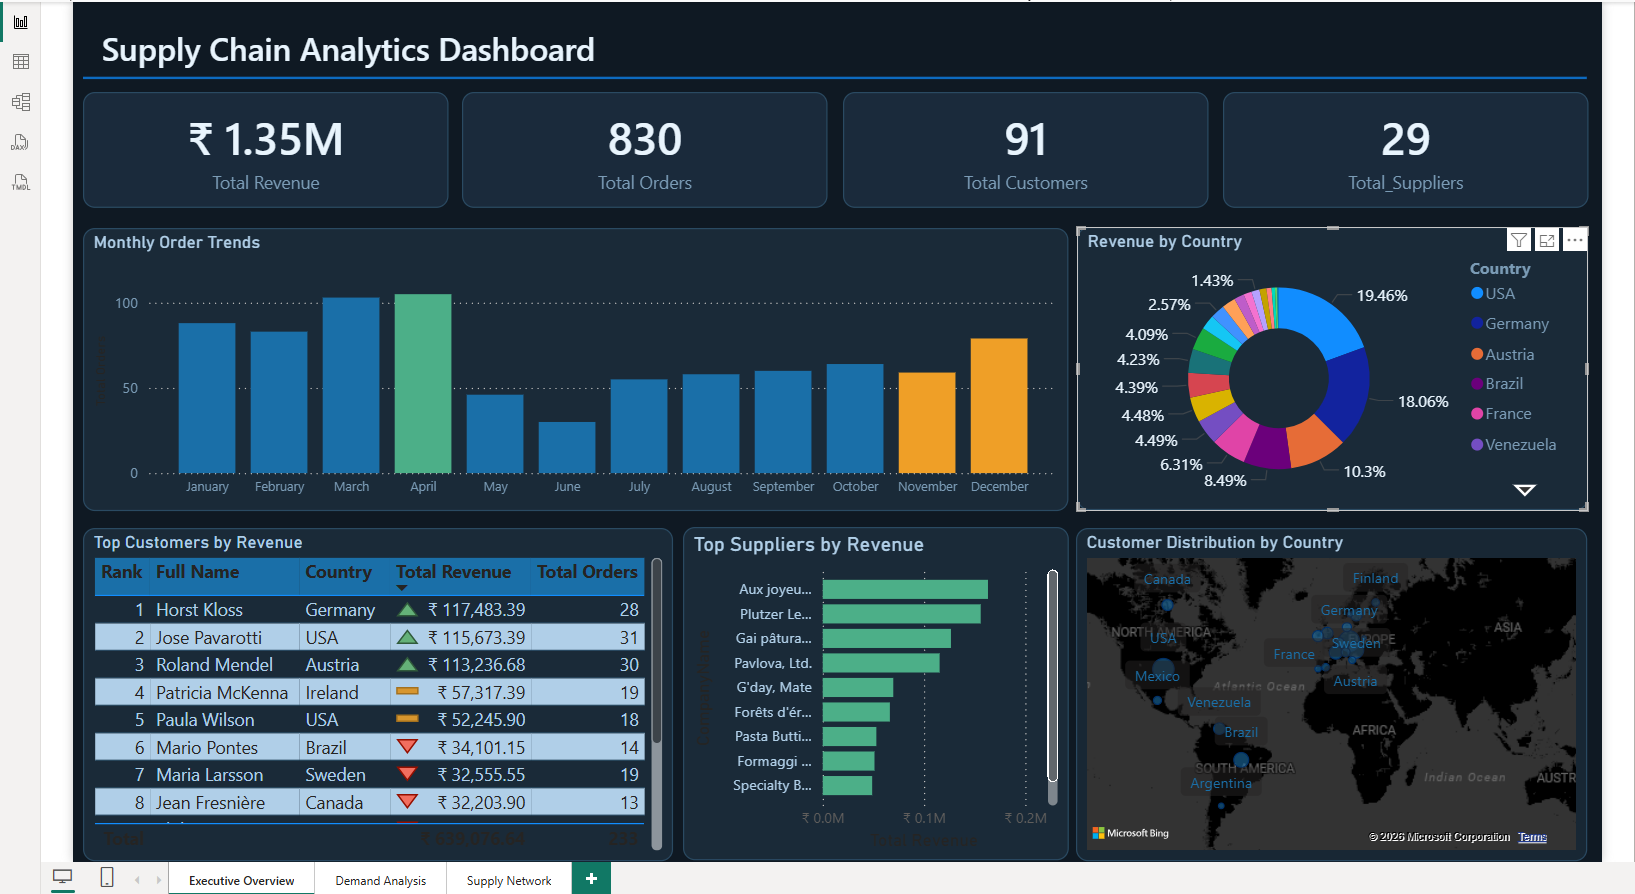

What the dashboard file says about the page in this screenshot:
{"tool":"powerbi","page":{"name":"Executive Overview","canvas":[1280,720],"ordinal":0},"visuals":[{"type":"card","fields":{"Values":["order_item.Total Revenue"]},"box":[8.6,75,306.2,96.6],"z":0},{"type":"card","fields":{"Values":["order_item.Total Orders"]},"box":[326,75,306.2,96.6],"z":1000},{"type":"card","fields":{"Values":["customer.Total Customers"]},"box":[644.3,75,306.2,96.6],"z":2000},{"type":"card","fields":{"Values":["supplier.Total Suppliers"]},"box":[962.6,75,306.2,96.6],"z":3000},{"type":"clusteredColumnChart","title":"Monthly Order Trends","fields":{"Y":["order_item.Total Orders"],"Category":["order.OrderDate.Variation.Date Hierarchy.Month"]},"box":[8.6,188.9,824.6,237.2],"z":4000},{"type":"donutChart","title":"Revenue by Country","fields":{"Y":["order_item.Total Revenue"],"Category":["customer.Country"]},"box":[840.4,188.7,428,237.3],"z":5000},{"type":"tableEx","title":"Top Customers by Revenue","fields":{"Values":["customer.Rank","customer.Full Name","customer.Country","order_item.Total Revenue","order_item.Total Orders"]},"box":[8.6,440.8,494.2,278.6],"z":6000},{"type":"clusteredBarChart","title":"Top Suppliers by Revenue","fields":{"Category":["supplier.CompanyName"],"Y":["order_item.Total Revenue"]},"box":[510.6,439.9,322.6,279.5],"z":7000},{"type":"map","title":"Customer Distribution by Country","fields":{"Category":["customer.Country"],"Size":["order_item.Total Revenue"]},"box":[840,440,428,279],"z":8000},{"type":"textbox","box":[15.5,14.7,429.5,50],"z":8001},{"type":"shape","box":[8.6,23.3,1259.3,80.2],"z":8002}]}

Visuals, with their boxes on the page's 1280x720 design canvas (x1, y1, x2, y2). These are canvas units, not pixel positions in the 1635x894 screenshot, which may show the page scaled, cropped or inside an application window:
card - order_item.Total Revenue: {"left": 9, "top": 75, "right": 315, "bottom": 172}
card - order_item.Total Orders: {"left": 326, "top": 75, "right": 632, "bottom": 172}
card - customer.Total Customers: {"left": 644, "top": 75, "right": 950, "bottom": 172}
card - supplier.Total Suppliers: {"left": 963, "top": 75, "right": 1269, "bottom": 172}
"Monthly Order Trends" clusteredColumnChart: {"left": 9, "top": 189, "right": 833, "bottom": 426}
"Revenue by Country" donutChart: {"left": 840, "top": 189, "right": 1268, "bottom": 426}
"Top Customers by Revenue" tableEx: {"left": 9, "top": 441, "right": 503, "bottom": 719}
"Top Suppliers by Revenue" clusteredBarChart: {"left": 511, "top": 440, "right": 833, "bottom": 719}
"Customer Distribution by Country" map: {"left": 840, "top": 440, "right": 1268, "bottom": 719}
textbox: {"left": 16, "top": 15, "right": 445, "bottom": 65}
shape: {"left": 9, "top": 23, "right": 1268, "bottom": 104}
